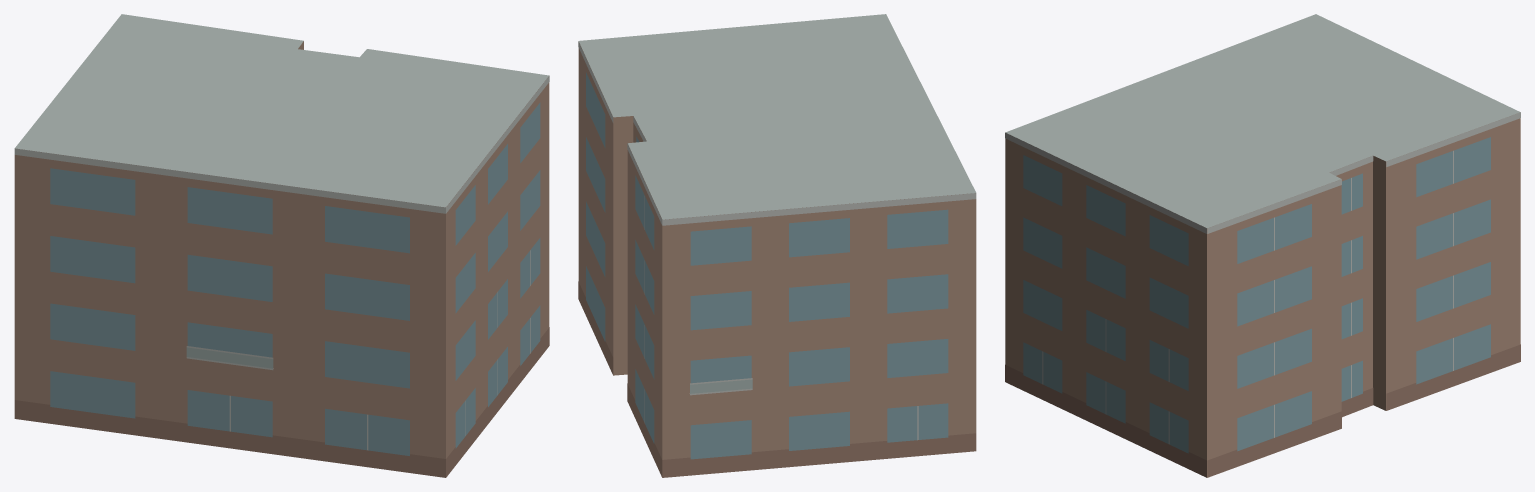
File: survey-upis-32745774.glb
3 renders of one model, left to right at view 1: azimuth 30°, elevation 25°; view 2: azimuth 150°, elevation 25°; view 3: azimuth 270°, elevation 25°, orthographic. The views are drawn at different scales.
Parts seen in each view (by area): view 1: survey-upis-32745774.tmp; view 2: survey-upis-32745774.tmp; view 3: survey-upis-32745774.tmp.
Boxes of the visible parts, x1=… form: survey-upis-32745774.tmp: x1=14, y1=14, x2=549, y2=477; survey-upis-32745774.tmp: x1=578, y1=14, x2=976, y2=477; survey-upis-32745774.tmp: x1=1005, y1=14, x2=1520, y2=477.
Size of the model in its own units: 18.97 by 10.3 by 19.29.
